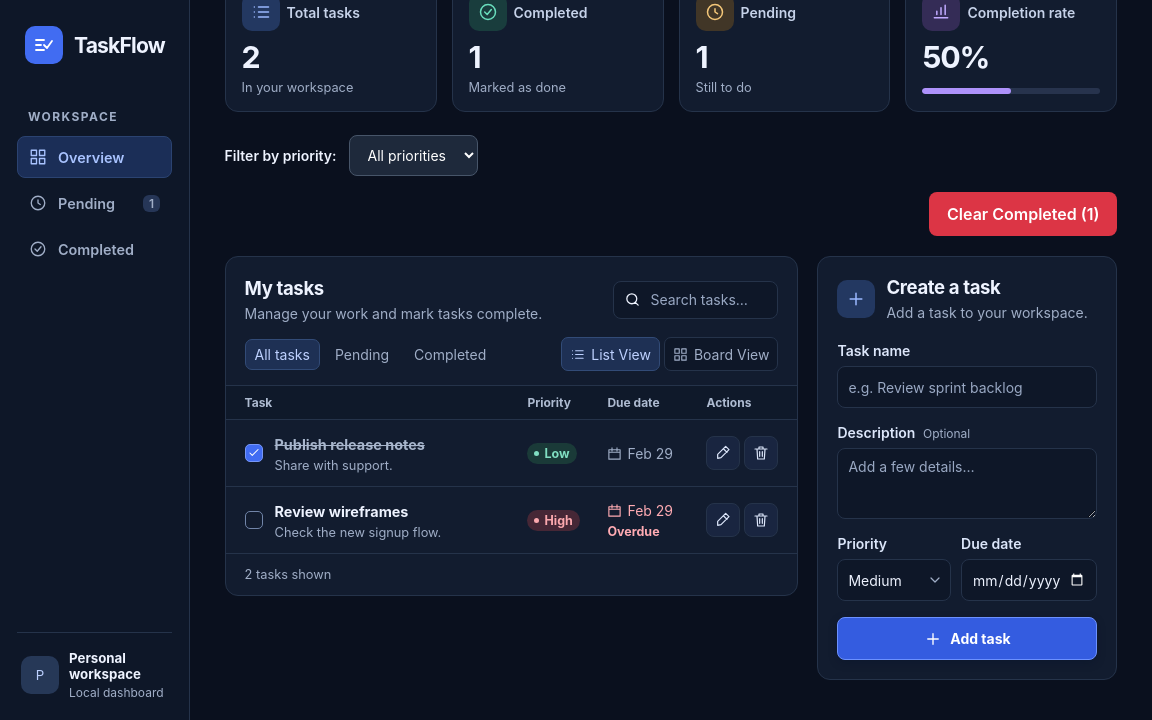
Test: TaskFlow › creates a trimmed task and reloads it from storage
Later steps or results of the test are not shown.
(page scrolled)
Type "  Prepare demo  " into the field labelled "Task name" at (968, 387), box [838, 366, 1098, 408]
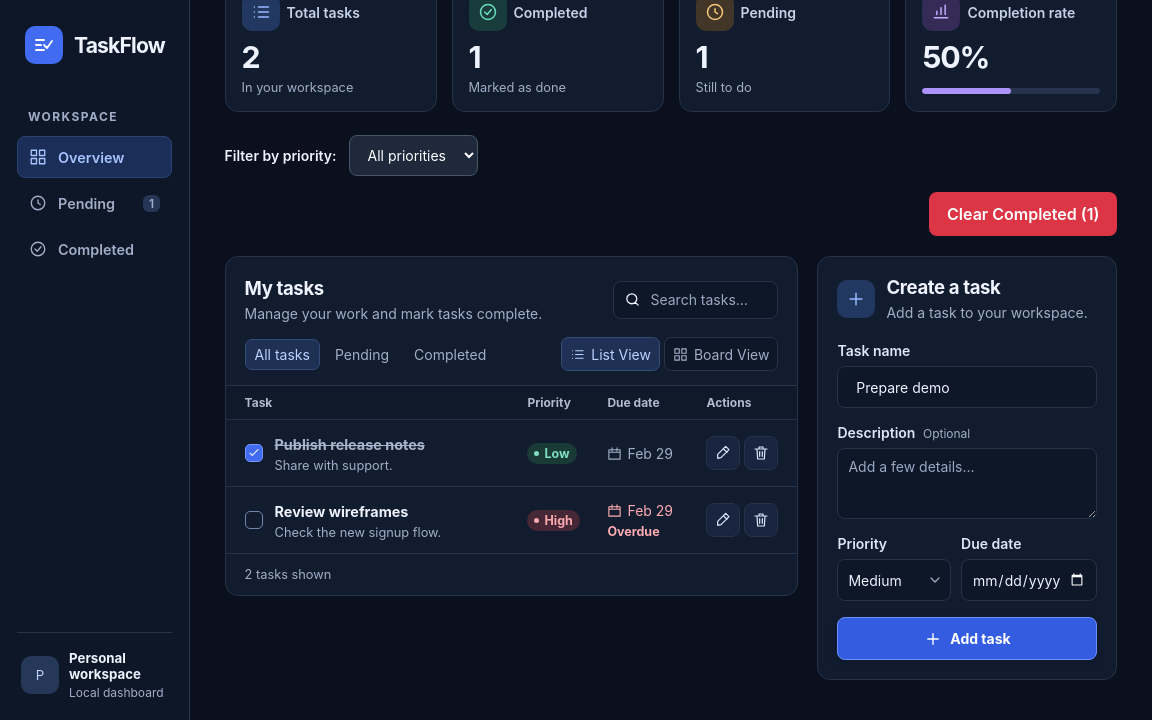
Type "2030-05-10" into the date field labelled "Due date" at (1029, 580), box [961, 559, 1098, 601]
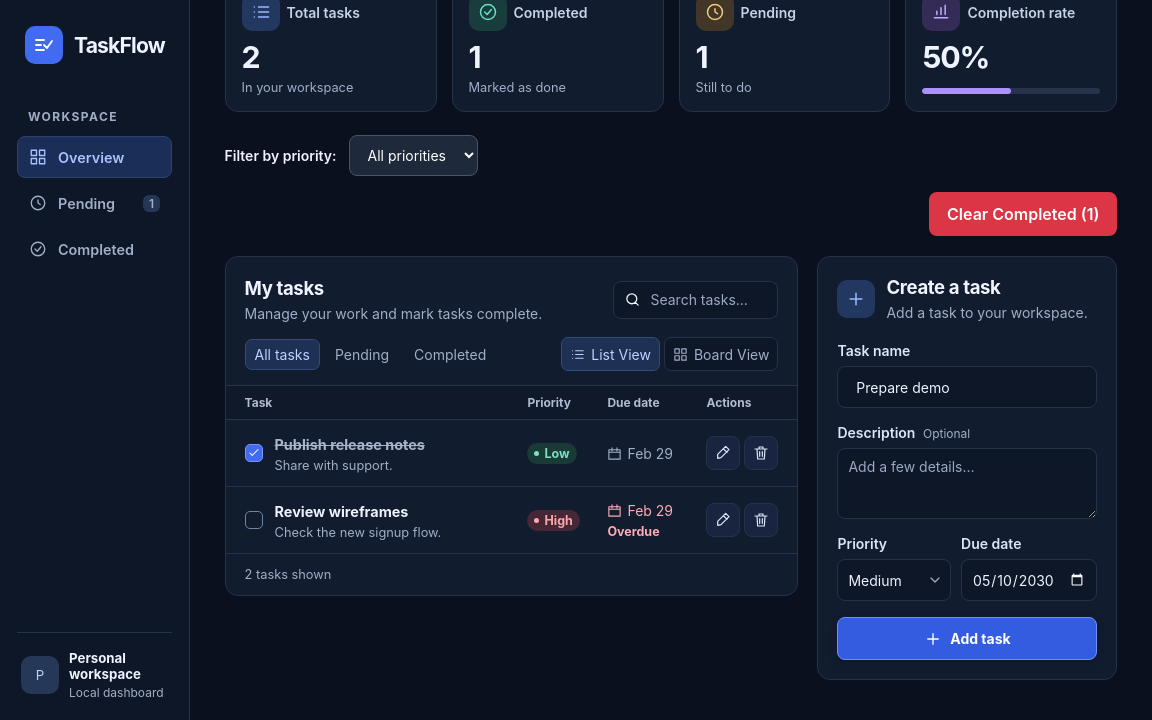
Click the button "Add task" at (968, 639), box [838, 617, 1098, 660]
(page scrolled)
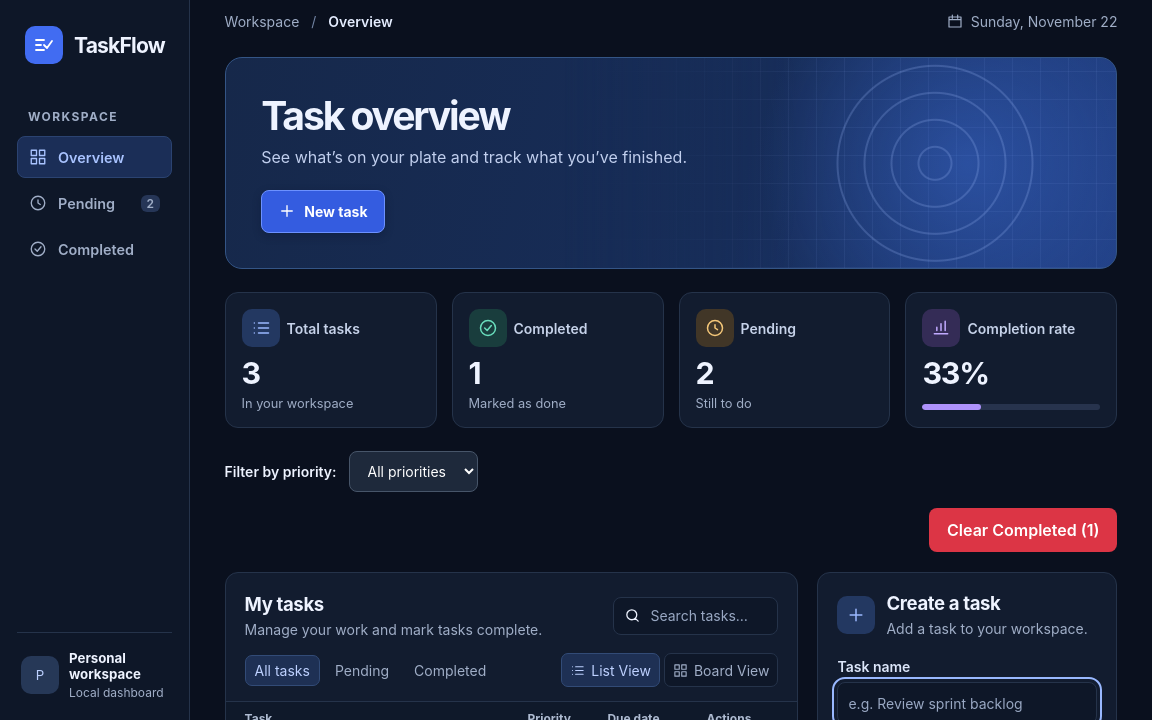
Result: the element "Total tasks" shows "3" at [242, 356, 260, 392]
